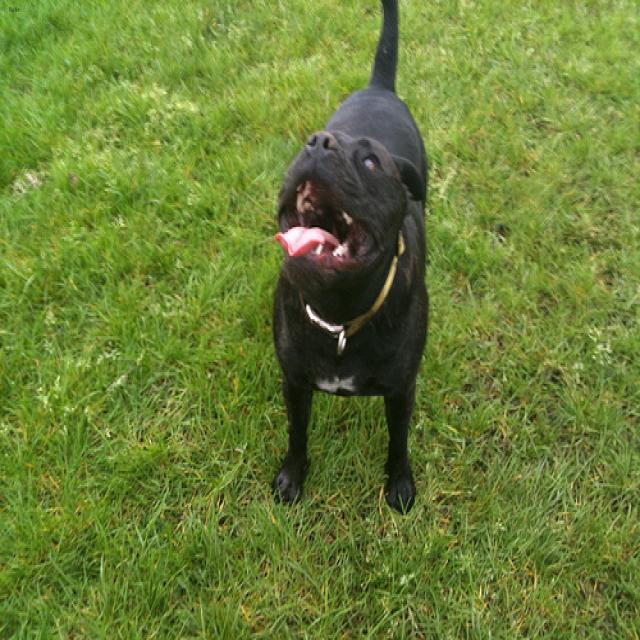dog-staffordshire_bull_terrier: (266, 2, 433, 515)
